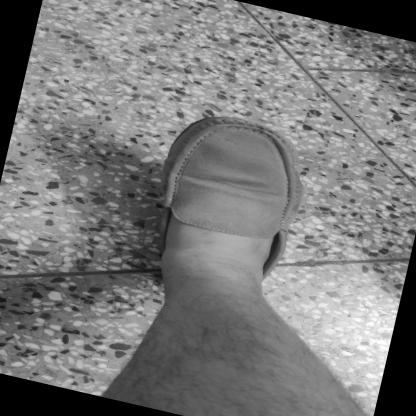ankle: (196, 227, 206, 233)
heel: (167, 250, 172, 254)
left_foot: (146, 106, 314, 300)
pinky: (279, 156, 292, 165)
toe: (202, 124, 212, 130)
